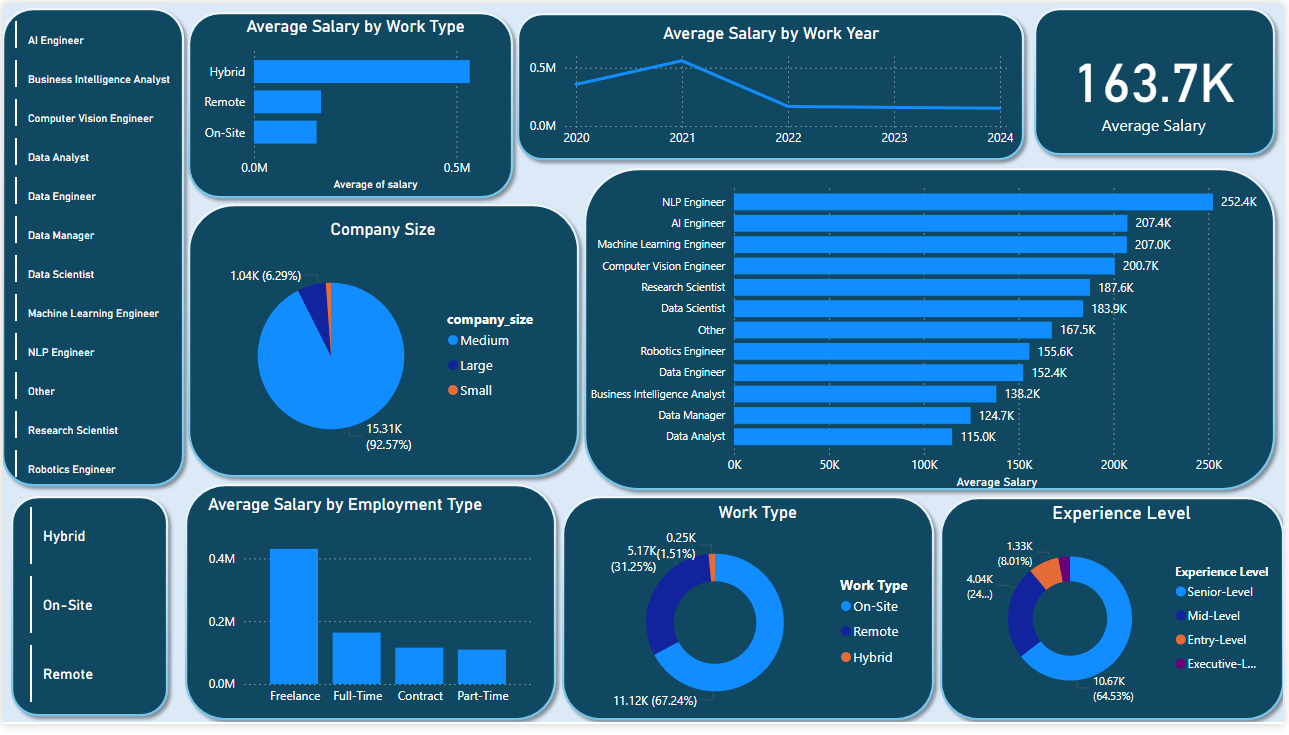

This screenshot's page, from the dashboard's own definition file:
{"tool":"powerbi","page":{"name":"Page 1","canvas":[1280,720],"ordinal":0},"visuals":[{"type":"advancedSlicerVisual","fields":{"Values":["df_cleaned (1).Cleaned_job_titles"]},"box":[7.1,12.2,184.8,466.5],"z":0},{"type":"card","fields":{"Values":["Avg(df_cleaned (1).salary)"]},"box":[1039.1,12.2,222.5,139.8],"z":1000},{"type":"clusteredBarChart","fields":{"Category":["df_cleaned (1).Cleaned_job_titles"],"Y":["Avg(df_cleaned (1).salary)"]},"box":[570.6,168.4,705.3,320.5],"z":2000},{"type":"donutChart","title":"Work Type","fields":{"Category":["df_cleaned (1).work_type"],"Y":["CountNonNull(df_cleaned (1).work_type)"]},"box":[581.8,498.1,345,221.5],"z":3000},{"type":"donutChart","title":"Experience Level","fields":{"Category":["df_cleaned (1).experience_level"],"Y":["CountNonNull(df_cleaned (1).experience_level)"]},"box":[957.4,498.1,322.6,212.3],"z":5000},{"type":"lineChart","title":"Average Salary by Work Year","fields":{"Category":["df_cleaned (1).work_year"],"Y":["Avg(df_cleaned (1).salary)"]},"box":[520.6,19.4,494,132.7],"z":6000},{"type":"pieChart","title":"Company Size","fields":{"Category":["df_cleaned (1).company_size"],"Y":["CountNonNull(df_cleaned (1).company_size)"]},"box":[207.2,215.4,346,254.2],"z":7000},{"type":"advancedSlicerVisual","fields":{"Values":["df_cleaned (1).work_type"]},"box":[22.5,498.1,132.7,206.2],"z":7001},{"type":"columnChart","title":"Average Salary by Employment Type","fields":{"Category":["df_cleaned (1).employment_type"],"Y":["Avg(df_cleaned (1).salary)"]},"box":[200.1,490,334.8,220.5],"z":7002},{"type":"barChart","title":"Average Salary by Work Type","fields":{"Y":["Avg(df_cleaned (1).salary)"],"Category":["df_cleaned (1).work_type"]},"box":[191.9,12.2,321.5,178.6],"z":7003}]}

Visuals, with their boxes in screenshot pixels (x1, y1, x2, y2), scaled from the page's 1280x720 canvas onto the 1289x735 screenshot:
advancedSlicerVisual - df_cleaned (1).Cleaned_job_titles: [7, 12, 193, 489]
card - Avg(df_cleaned (1).salary): [1046, 12, 1270, 155]
clusteredBarChart - df_cleaned (1).Cleaned_job_titles x Avg(df_cleaned (1).salary): [575, 172, 1285, 499]
"Work Type" donutChart: [586, 508, 933, 734]
"Experience Level" donutChart: [964, 508, 1288, 725]
"Average Salary by Work Year" lineChart: [524, 20, 1022, 155]
"Company Size" pieChart: [209, 220, 557, 479]
advancedSlicerVisual - df_cleaned (1).work_type: [23, 508, 156, 719]
"Average Salary by Employment Type" columnChart: [202, 500, 539, 725]
"Average Salary by Work Type" barChart: [193, 12, 517, 195]
